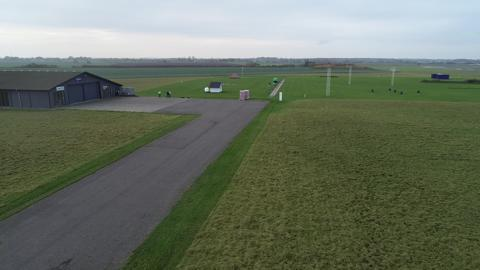RockwoolPallet: (244, 89, 250, 100)
